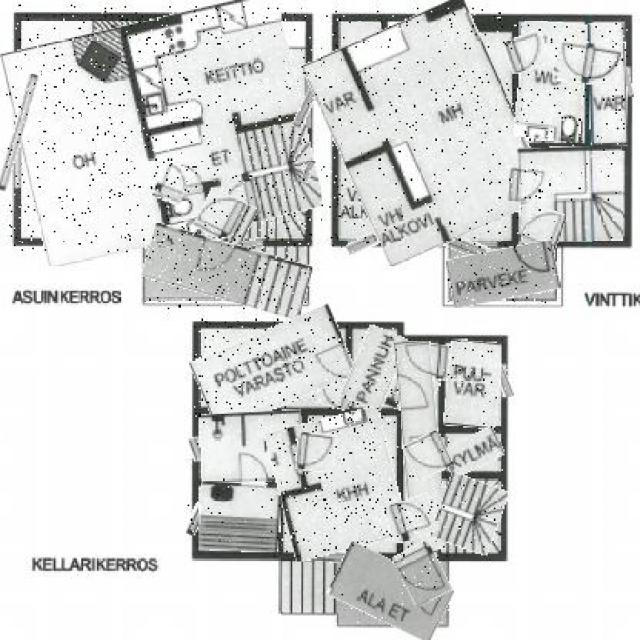door: (516, 206, 562, 282), (398, 543, 448, 605), (197, 192, 254, 245), (554, 42, 621, 84), (388, 369, 437, 418), (385, 495, 437, 540), (405, 432, 449, 477), (314, 366, 355, 408), (506, 32, 549, 72), (194, 238, 234, 280), (297, 432, 335, 472), (156, 163, 190, 203), (414, 344, 454, 378), (509, 169, 545, 202)
window: (4, 74, 30, 191), (423, 231, 499, 257), (298, 68, 322, 128), (306, 549, 352, 563), (186, 503, 203, 537), (495, 361, 511, 397), (348, 235, 378, 252), (303, 158, 314, 184), (189, 438, 202, 460), (623, 68, 632, 97), (243, 238, 262, 248), (157, 239, 174, 246)
zone: (10, 5, 312, 252), (320, 8, 532, 254), (270, 412, 402, 557), (194, 317, 354, 417), (144, 234, 310, 309), (518, 146, 622, 242), (331, 552, 451, 632), (399, 342, 443, 550), (517, 22, 588, 142), (200, 411, 302, 483), (448, 245, 558, 303), (200, 483, 280, 551), (434, 477, 503, 552), (588, 23, 628, 146), (446, 340, 500, 429), (348, 326, 402, 409), (443, 432, 503, 474)
